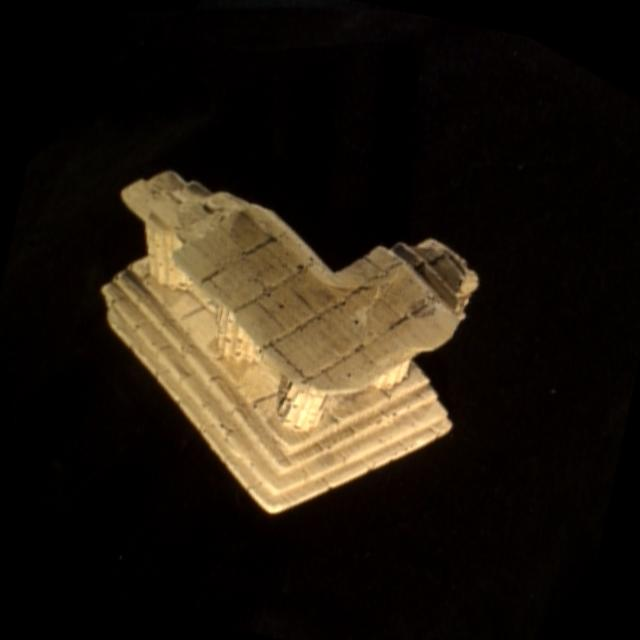Instance-Segmentation: (102, 171, 475, 512)
